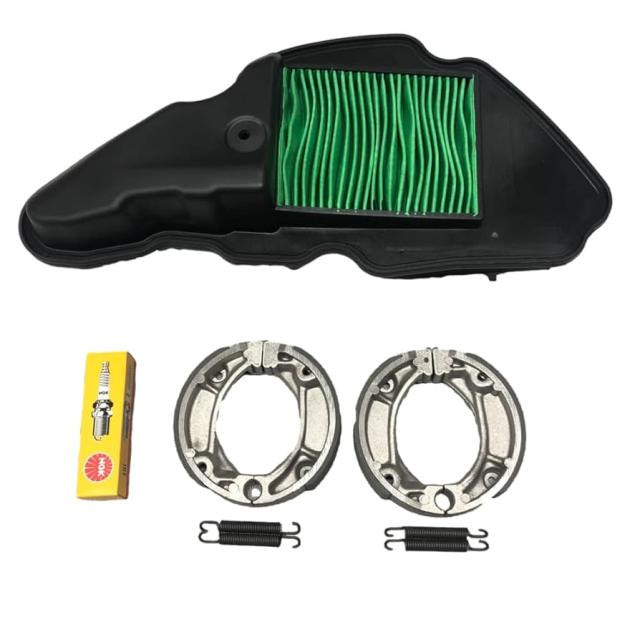air_filter: (270, 71, 474, 223)
brake_pad: (348, 339, 529, 521), (174, 335, 342, 507)
